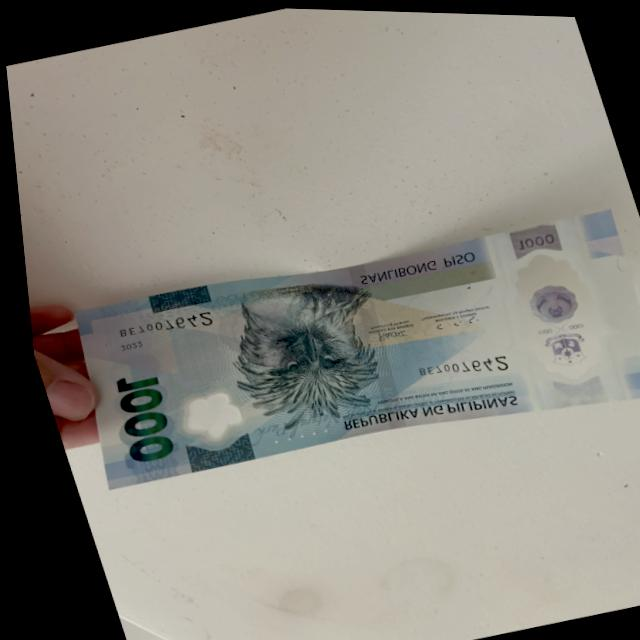clear_window: (477, 211, 617, 404)
sampaguita: (154, 378, 247, 454)
security_thread: (326, 256, 415, 430)
serial_number: (104, 292, 219, 346), (398, 337, 515, 390)
value: (85, 363, 180, 468)
value_watermark: (499, 216, 567, 267)
